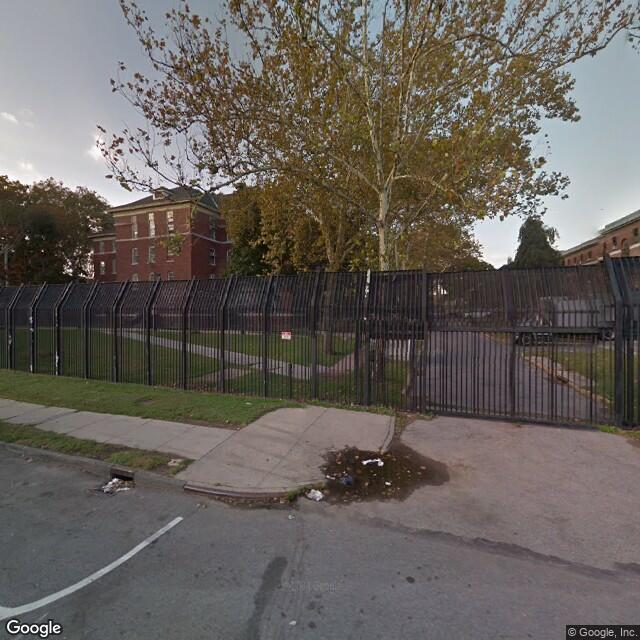litter: (104, 477, 132, 494), (326, 472, 358, 485), (303, 486, 326, 500), (361, 457, 384, 467), (167, 458, 185, 468), (288, 619, 299, 627), (287, 513, 297, 521), (383, 479, 392, 485)
